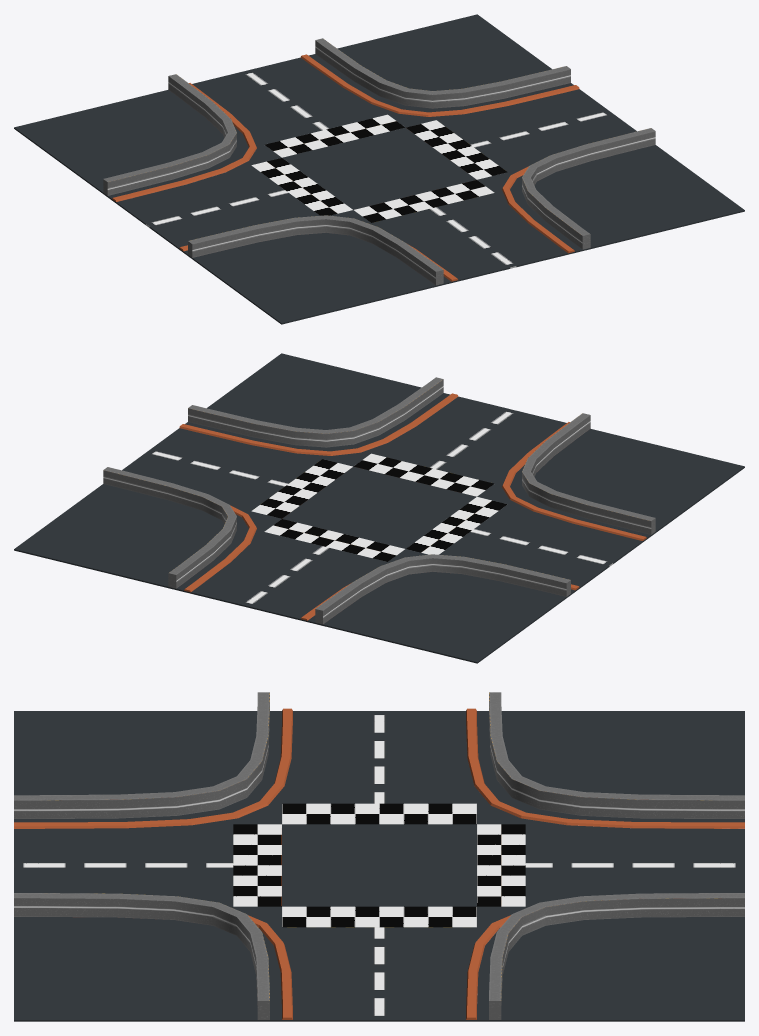
Rendered from kartkids_base_trk_160_jct_4way_3x3.gltf.
3 renders of one model, top to bottom at view 1: azimuth 30°, elevation 25°; view 2: azimuth 150°, elevation 25°; view 3: azimuth 270°, elevation 25°, orthographic. The views are drawn at different scales.
Visible parts, largest first — view 1: kartkids_base_trk_160_jct_4way_3x3, kartkids_base_trk_160_jct_4way_3x3.002, kartkids_base_trk_160_jct_4way_3x3.001; view 2: kartkids_base_trk_160_jct_4way_3x3, kartkids_base_trk_160_jct_4way_3x3.002, kartkids_base_trk_160_jct_4way_3x3.001; view 3: kartkids_base_trk_160_jct_4way_3x3, kartkids_base_trk_160_jct_4way_3x3.002, kartkids_base_trk_160_jct_4way_3x3.001.
Boxes of the visible parts, x1,y1,x2,y2 form: kartkids_base_trk_160_jct_4way_3x3: [14, 14, 744, 324]; kartkids_base_trk_160_jct_4way_3x3.002: [103, 38, 655, 285]; kartkids_base_trk_160_jct_4way_3x3.001: [112, 54, 579, 281]; kartkids_base_trk_160_jct_4way_3x3: [14, 353, 744, 663]; kartkids_base_trk_160_jct_4way_3x3.002: [103, 377, 655, 624]; kartkids_base_trk_160_jct_4way_3x3.001: [179, 393, 646, 620]; kartkids_base_trk_160_jct_4way_3x3: [14, 711, 744, 1021]; kartkids_base_trk_160_jct_4way_3x3.002: [14, 692, 744, 1019]; kartkids_base_trk_160_jct_4way_3x3.001: [14, 708, 744, 1019].
Size of the model in its own units: 30 by 0.935 by 30.
2 materials, 2 textured.
